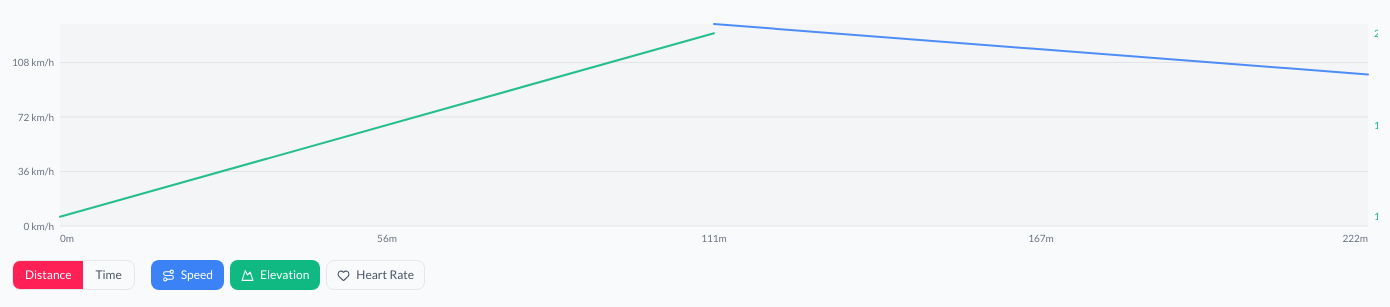
it: TrackGraph › switches the x-axis between distance and time, with duration labels
Step 1. Click the button "time" → (109, 275), box top-left (84, 261), bottom-right (134, 289)
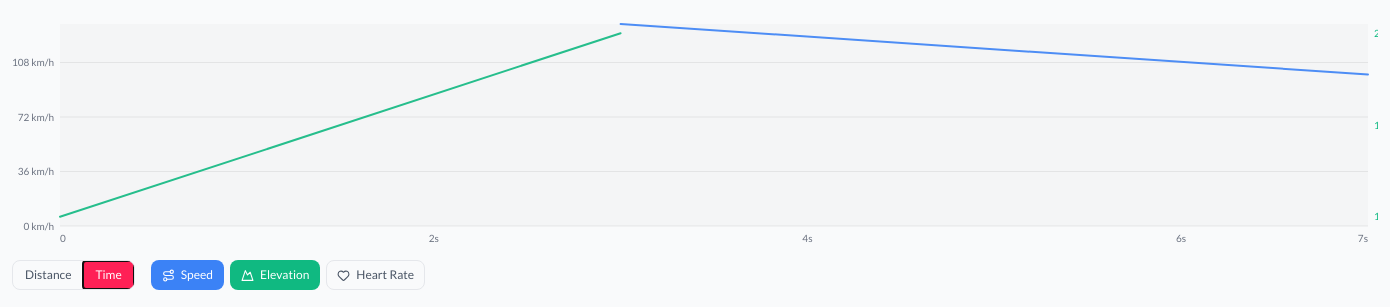
Expected: the picture named "Track graph" shows "0", top-left (60, 232), bottom-right (66, 244)
Expected: the picture named "Track graph" shows "7s", top-left (1358, 232), bottom-right (1368, 244)
